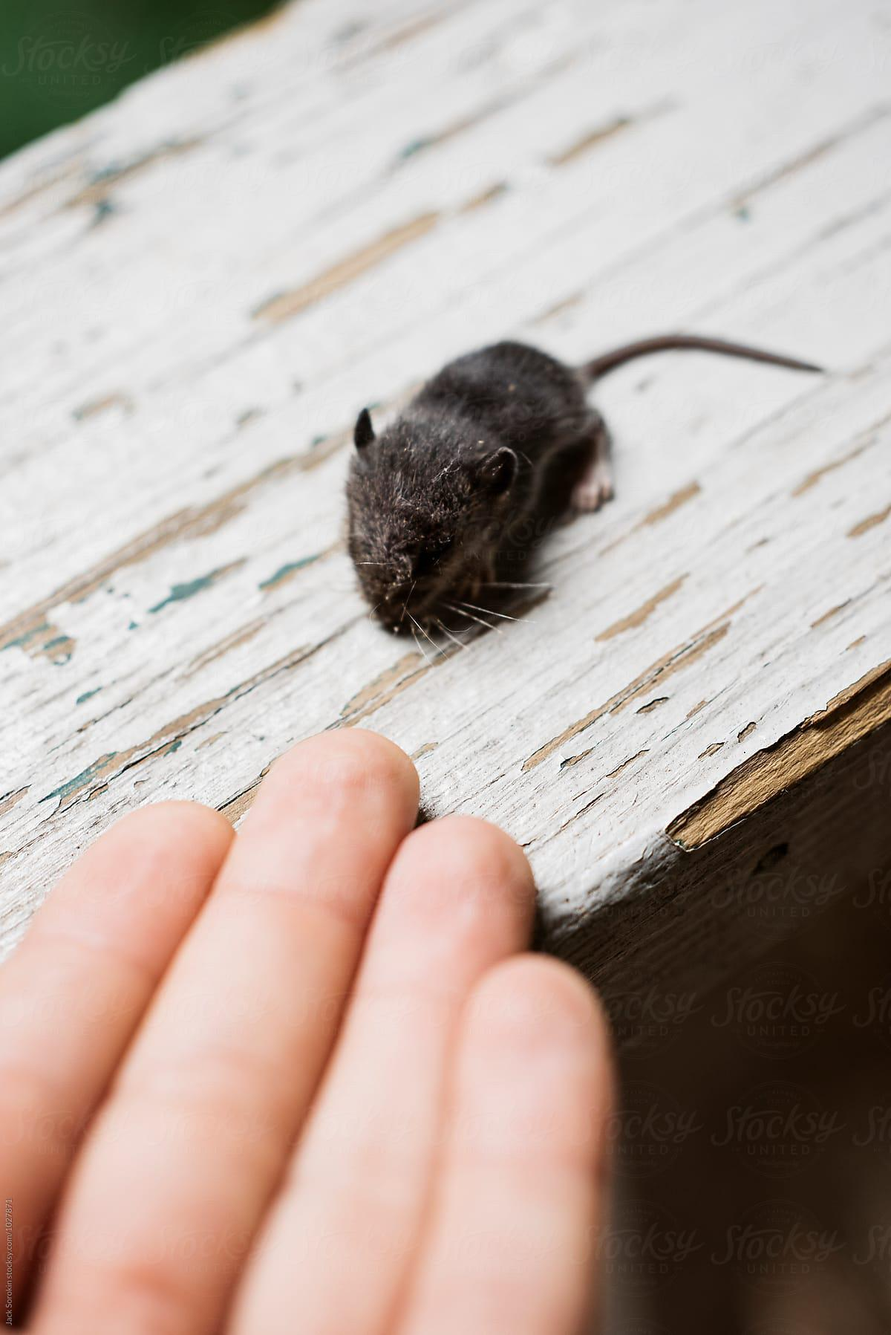rat: (344, 332, 825, 638)
